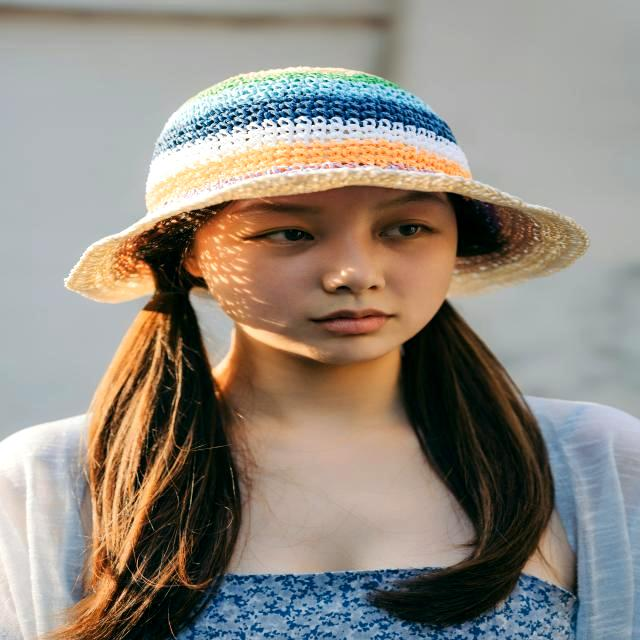no_hard_hat: (65, 68, 577, 300), (451, 232, 588, 295)
person: (1, 63, 640, 638)
